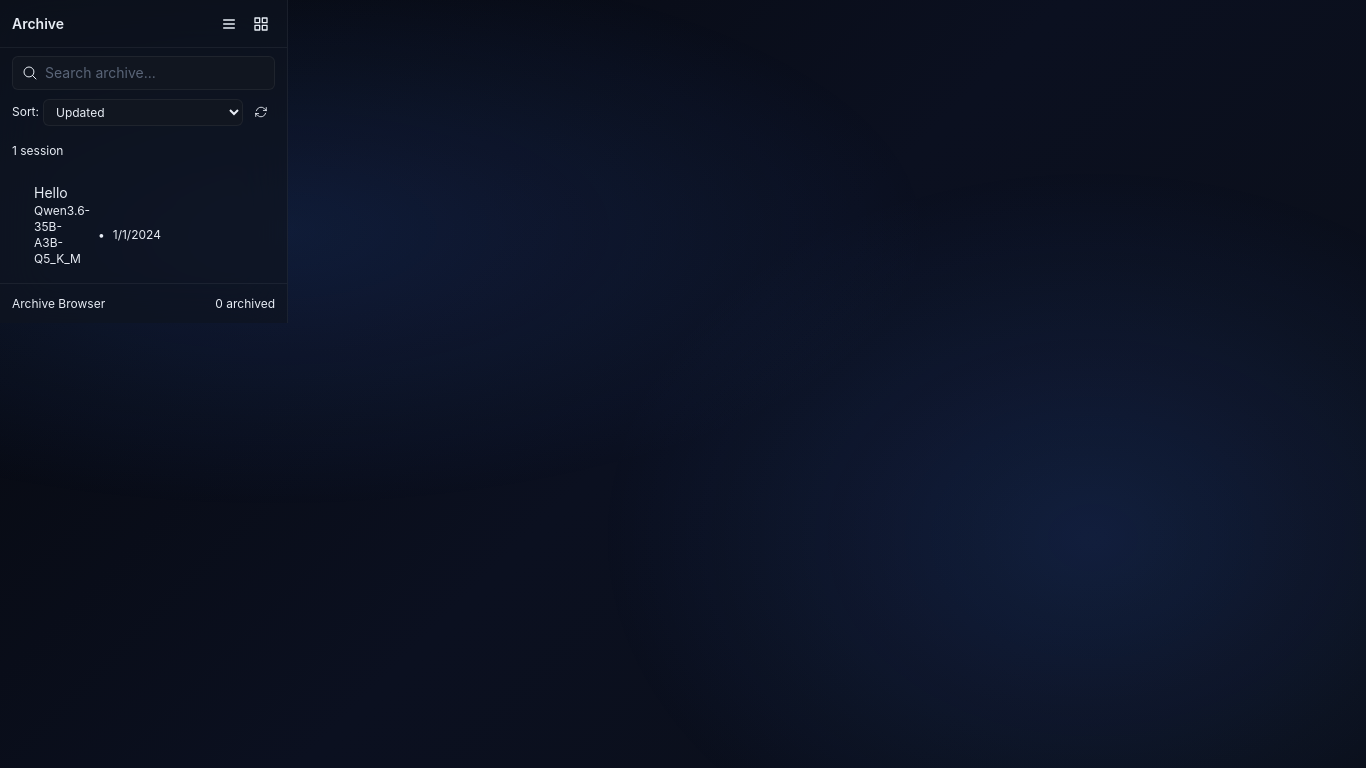
Test case: ArchiveBrowser › search › shows empty message when no matches
In the field with placeholder "Search archive...": (144, 73) [12, 56, 275, 90], type "nonexistent"
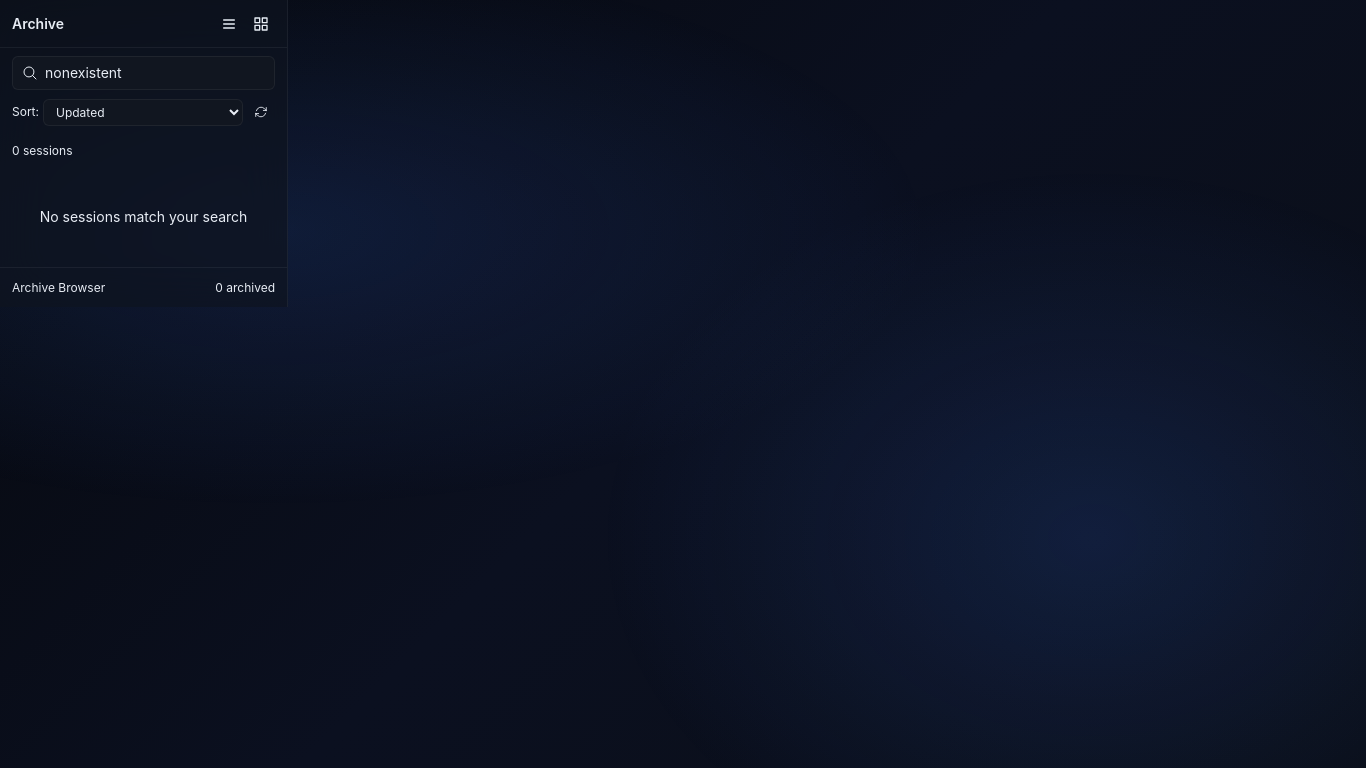
Result: the text "No sessions match your search" is shown at [40, 208, 247, 225]
